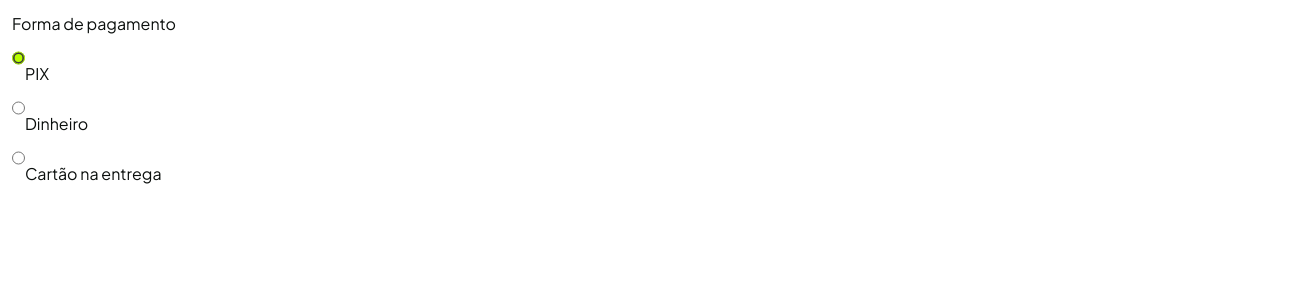
Test: escolha da forma de pagamento (AC-512) › @spec:AC-512 escolher dinheiro revela o campo de troco
expect the text "troco" is not shown: met
What coordinates should you click on to do the following:
click the radio button labelled "Dinheiro"
I would click on:
 (18, 108)
Its box is x1=12 y1=86 x2=25 y2=130.
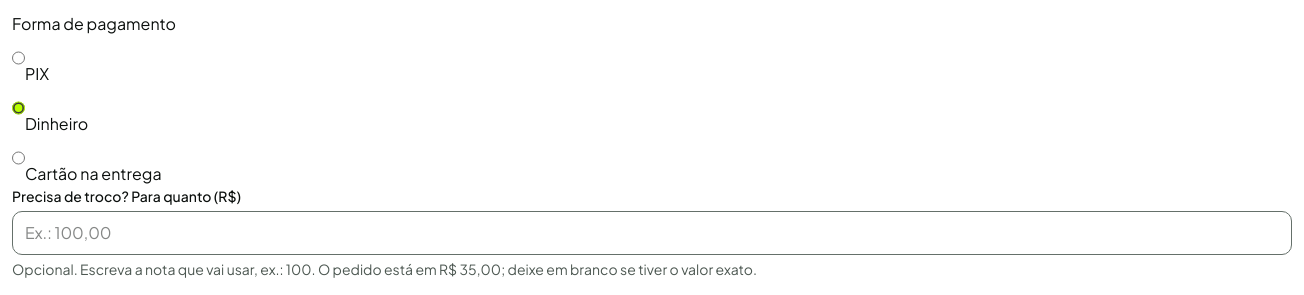
expect the text "troco" is shown: met, box x1=12 y1=187 x2=241 y2=205
expect the text "R$ 35,00" is shown: met, box x1=12 y1=260 x2=757 y2=278
